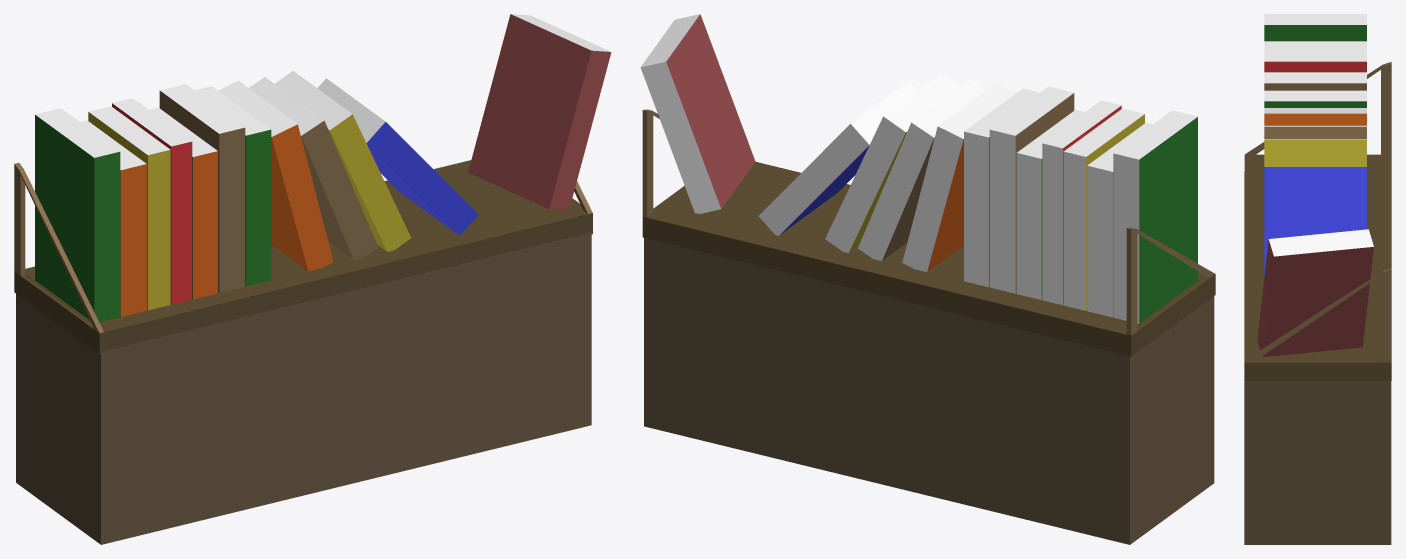
Rendered from ReceptionDesk_01.glb.
The picture shows the model from 3 angles, left to right: view 1: azimuth 30°, elevation 25°; view 2: azimuth 150°, elevation 25°; view 3: azimuth 270°, elevation 25°; orthographic projection. The views are drawn at different scales.
Visible parts, largest first — view 1: WallBookshelf; view 2: WallBookshelf; view 3: WallBookshelf.
Part boxes in pixels (<box>): WallBookshelf: <box>14,14,611,544</box>; WallBookshelf: <box>640,14,1215,544</box>; WallBookshelf: <box>1244,14,1391,544</box>.
Bounding box in the file's own units: 5.75 × 3.92 × 1.6.
Materials: 2 (1 with a texture image).
